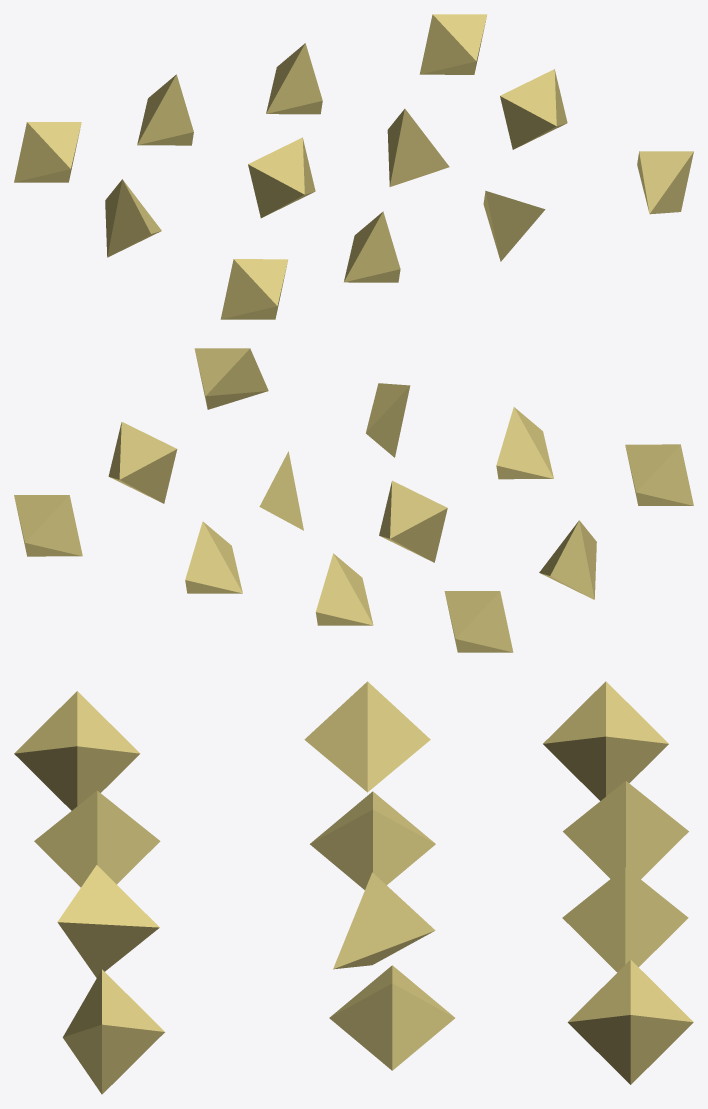
File: Lettuce-3.fbx
3 views of the same model, one above another, from view 1: azimuth 30°, elevation 25°; view 2: azimuth 150°, elevation 25°; view 3: azimuth 270°, elevation 25° (orthographic). The views are drawn at different scales.
Visible parts, largest first — view 1: Lettuce-3; view 2: Lettuce-3; view 3: Lettuce-3.
Boxes of the visible parts, x1,y1,x2,y2 form: Lettuce-3: (14, 14, 693, 319); Lettuce-3: (14, 348, 693, 652); Lettuce-3: (14, 681, 693, 1094).
Bounding box in the file's own units: 65.97 × 10.06 × 56.83.
